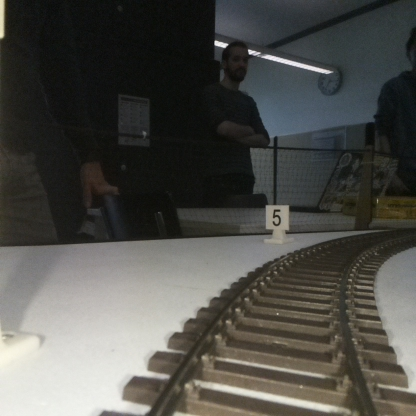white-stop-5: (266, 205, 288, 241)
